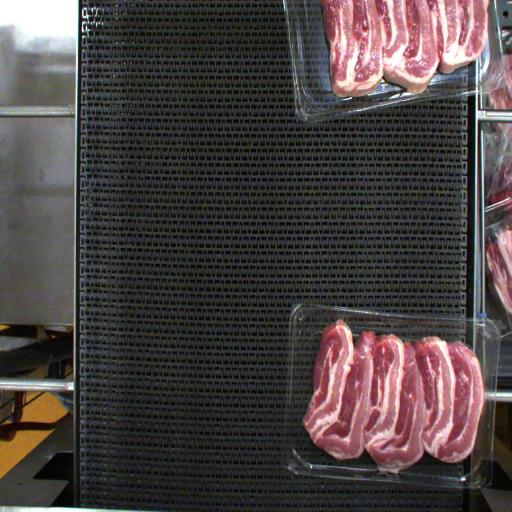packaging-error: (371, 463, 403, 476), (335, 308, 349, 324)
